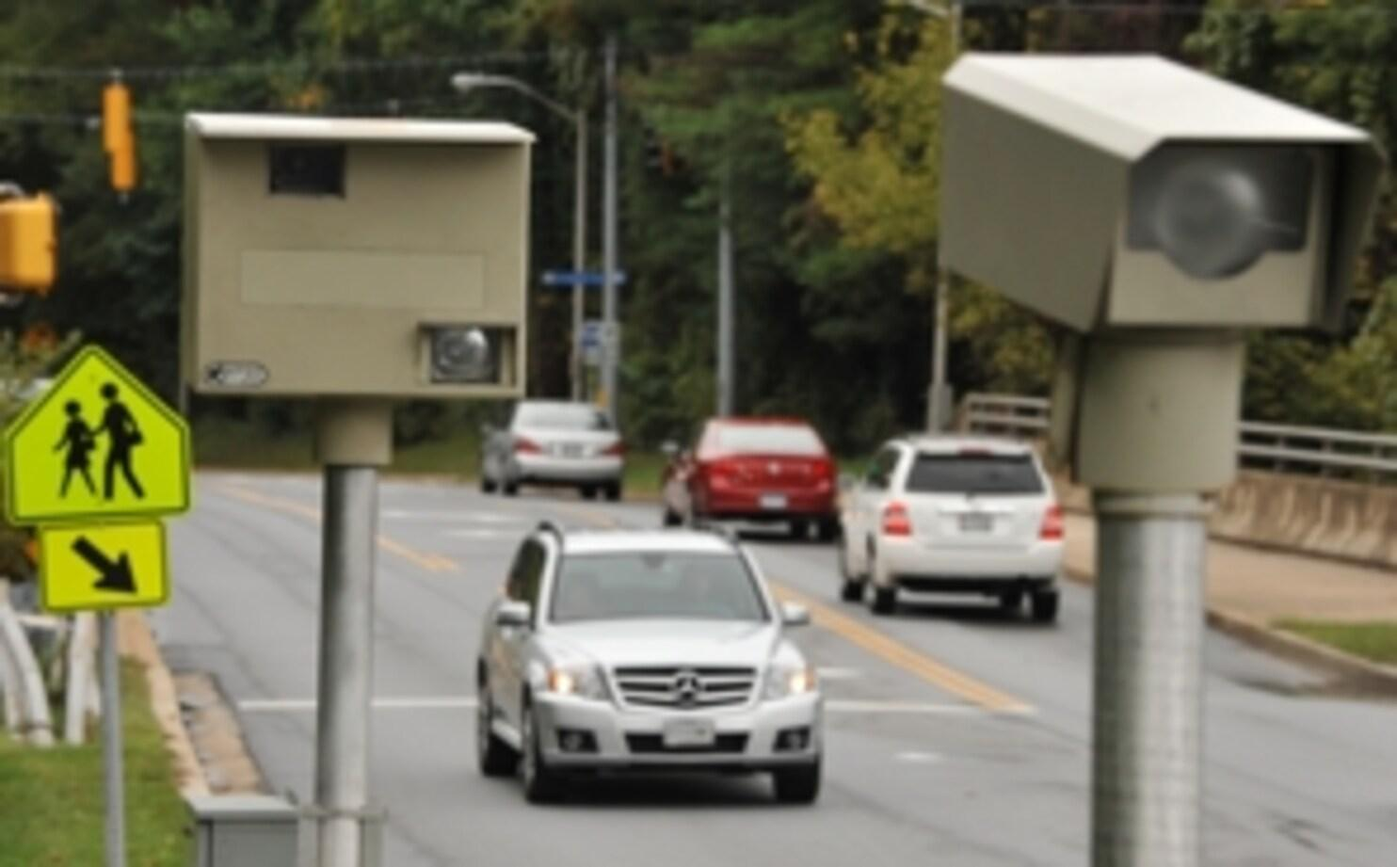Monitor: (930, 20, 1348, 422)
